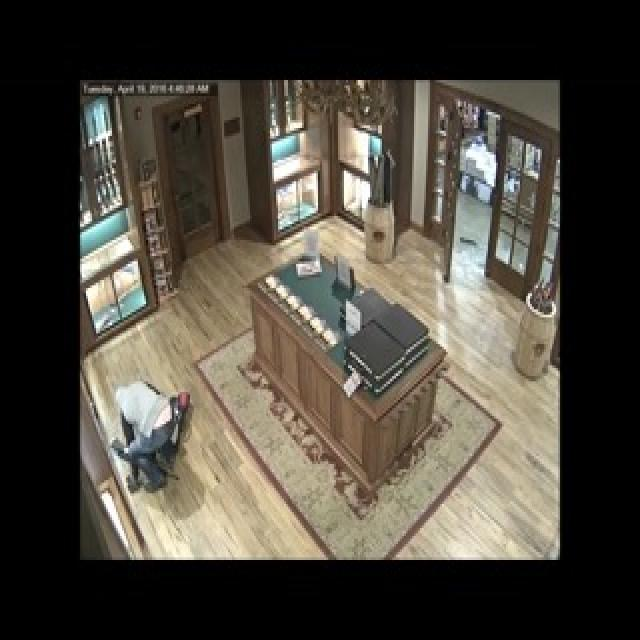thief: (111, 385, 178, 496)
